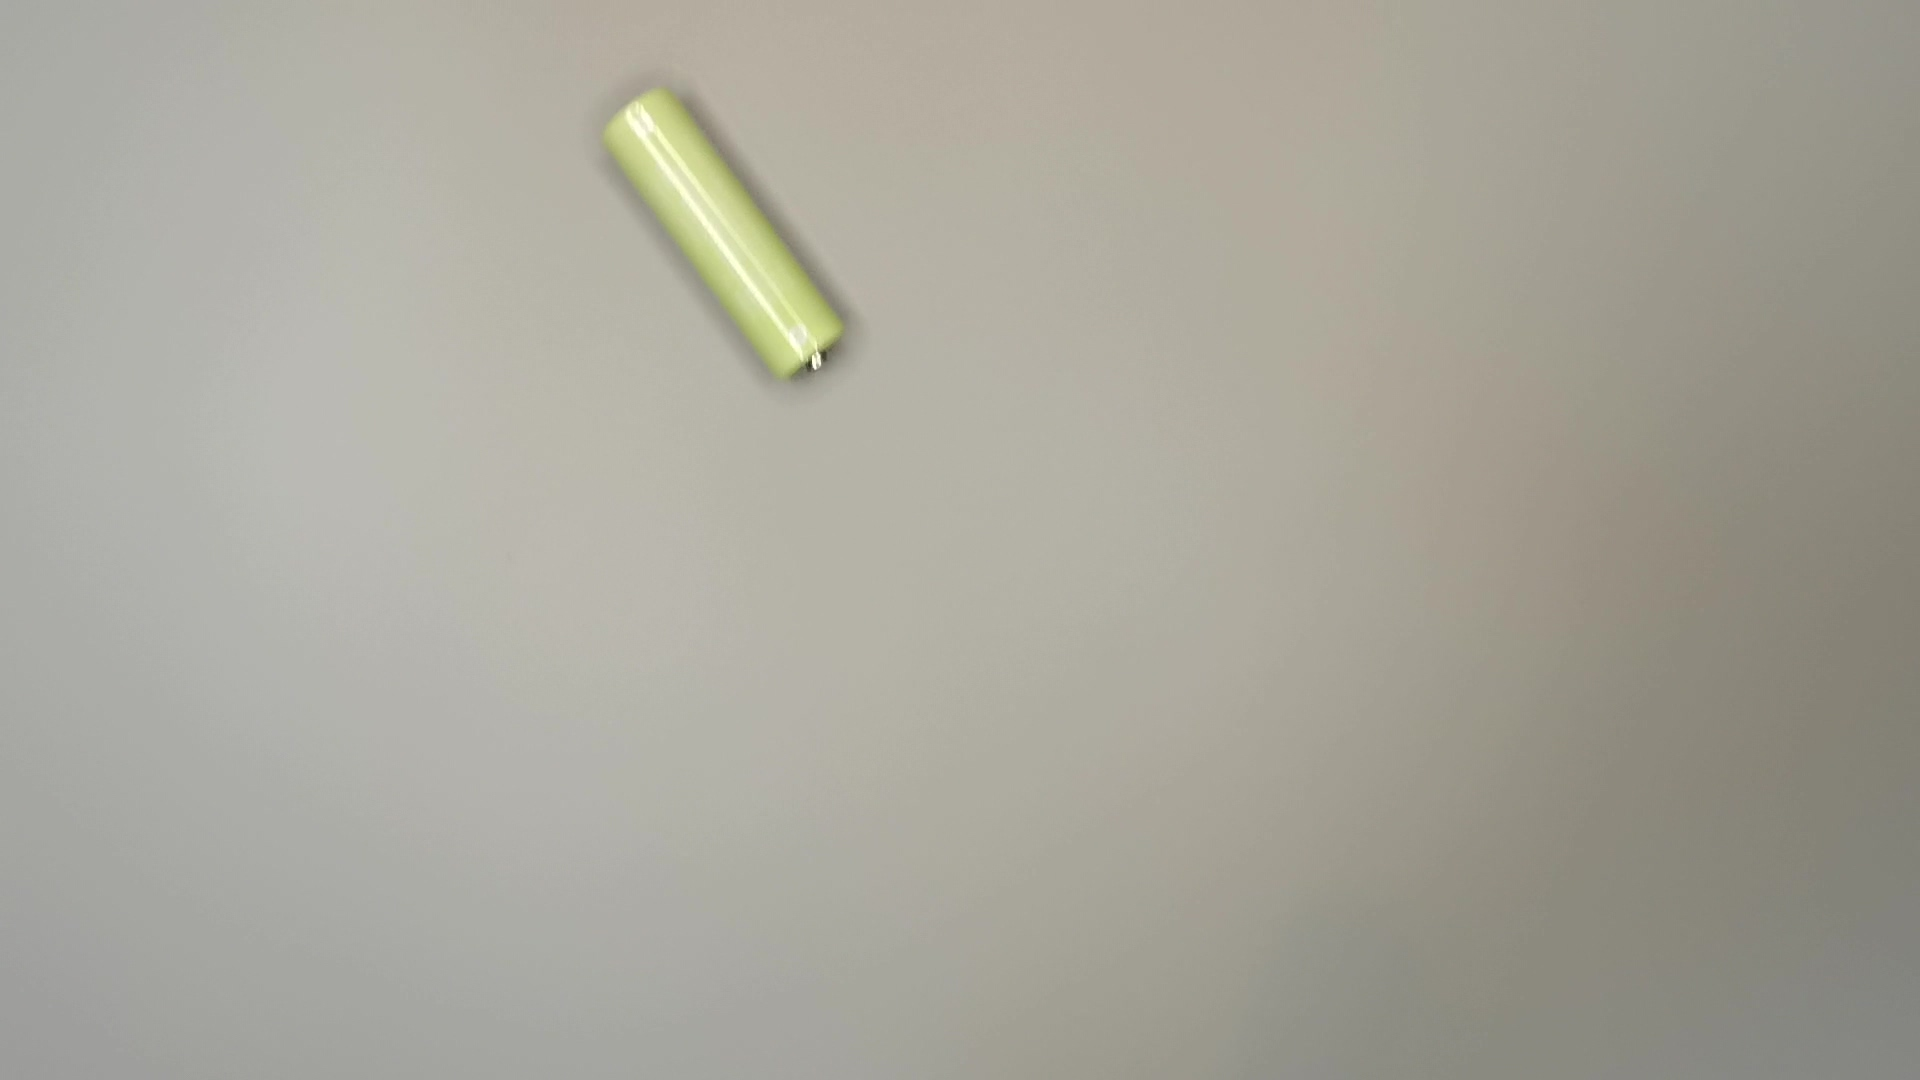battery: (588, 79, 858, 389)
